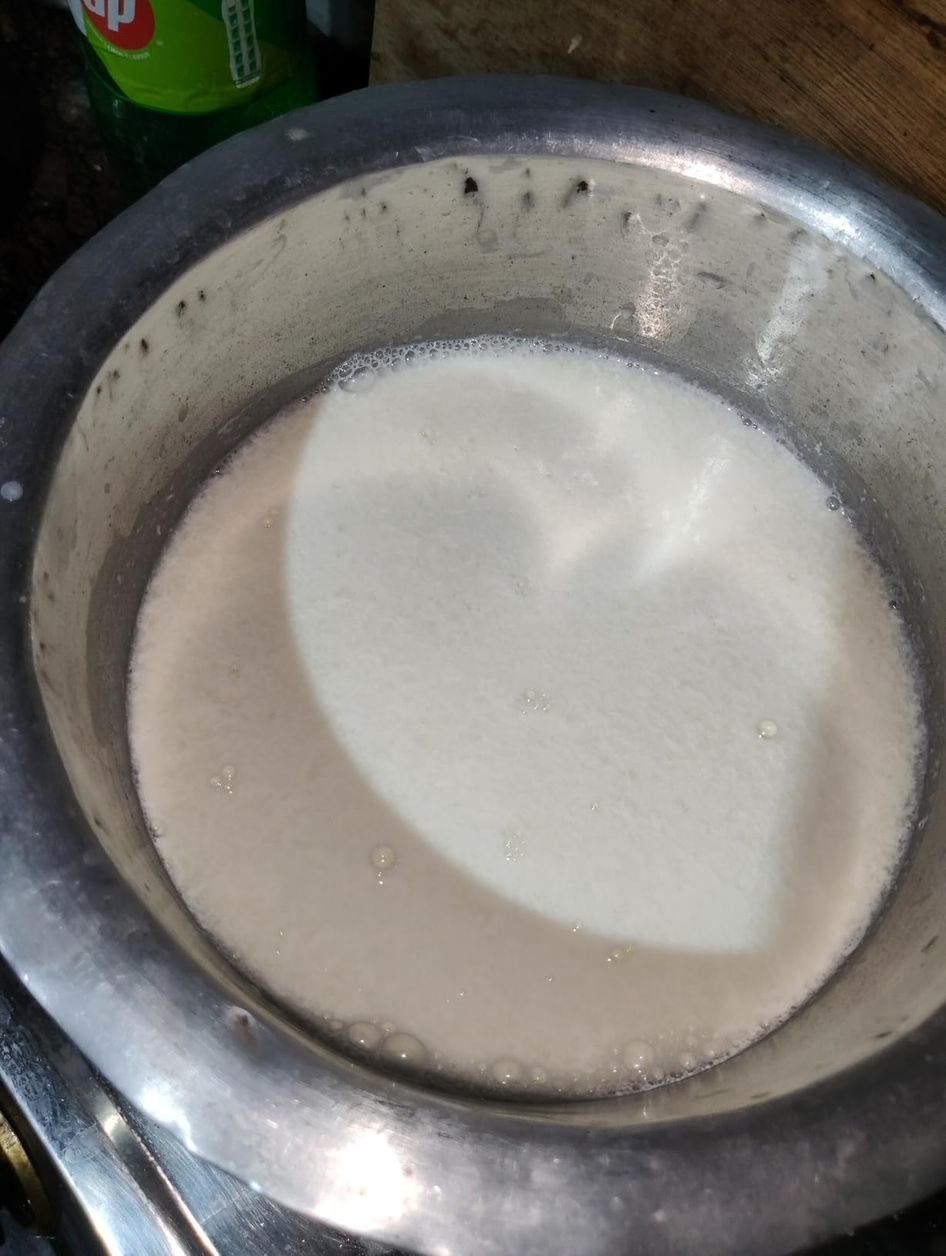Amul Taaza: (47, 63, 899, 1193)
